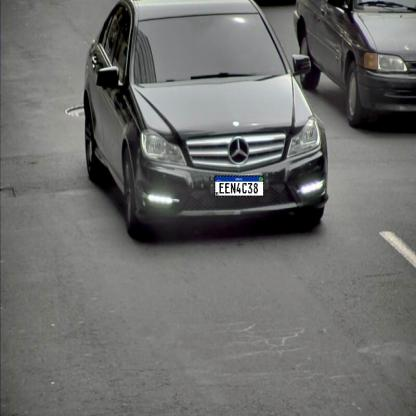PlacaM: (214, 175, 264, 197)
